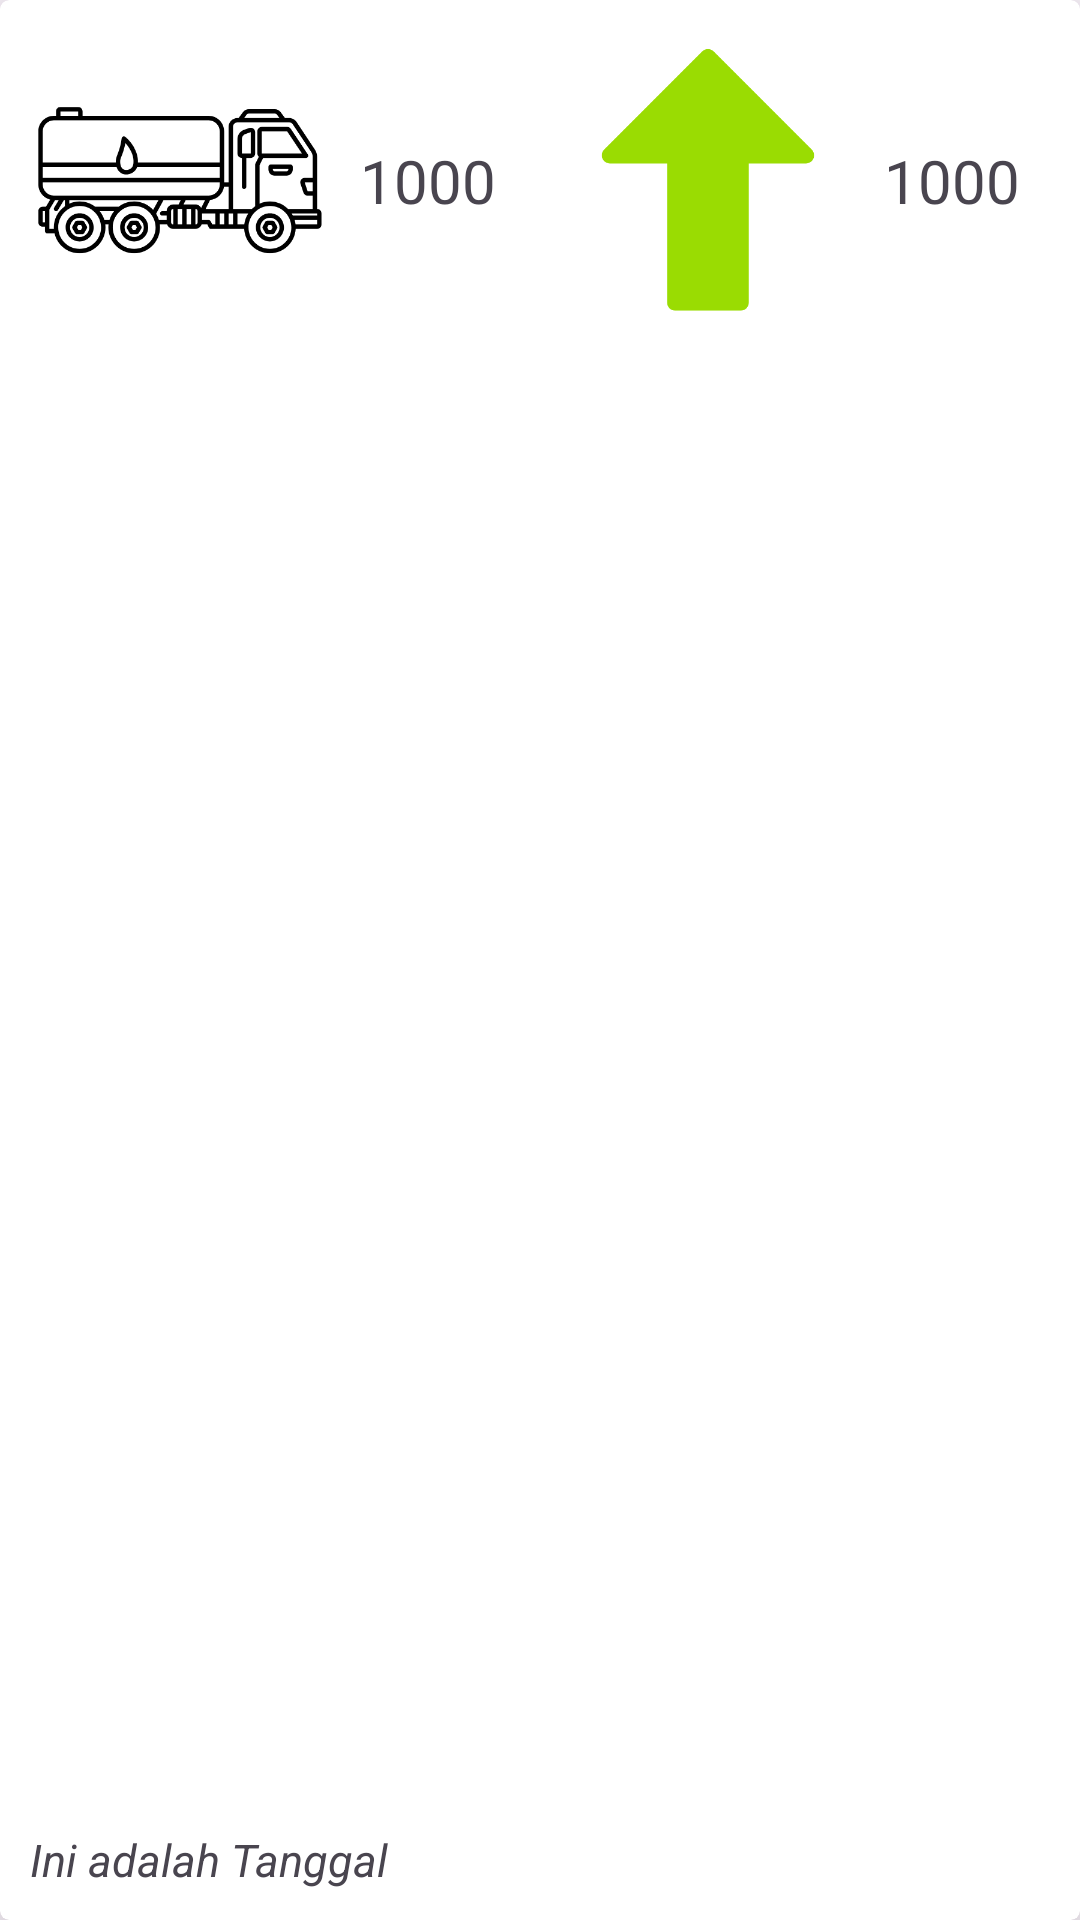

Icons on this 1080w x 1920h Android screen, each with its box as (x1, y1, x2, y2):
up arrow: (601, 49, 815, 311)
